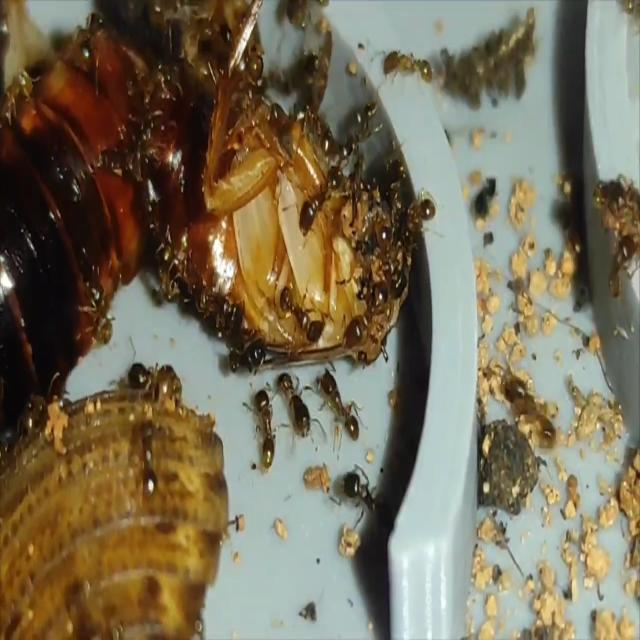Minor: (284, 156, 350, 248), (305, 359, 367, 447), (272, 373, 328, 448), (247, 384, 291, 470), (127, 357, 183, 407), (374, 49, 432, 94)
